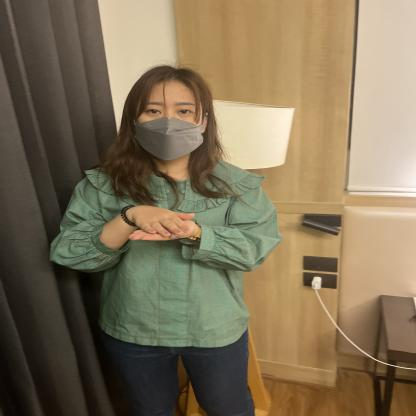Love: (76, 182, 323, 296)
